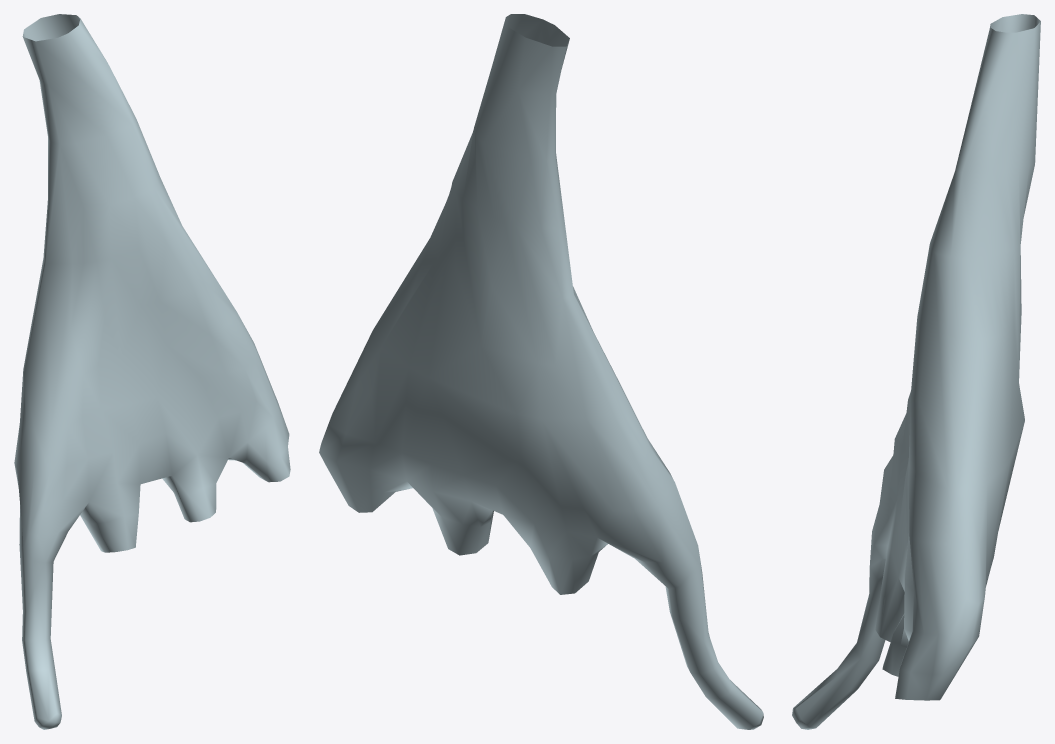
Rendered from musculos-common-flexor-tendon-sheath-l.glb.
The picture shows the model from 3 angles, left to right: view 1: azimuth 30°, elevation 25°; view 2: azimuth 150°, elevation 25°; view 3: azimuth 270°, elevation 25°; orthographic projection. The views are drawn at different scales.
Visible parts, largest first — view 1: Common flexor tendon sheath.l; view 2: Common flexor tendon sheath.l; view 3: Common flexor tendon sheath.l.
Boxes of the visible parts, x1=… form: Common flexor tendon sheath.l: x1=14, y1=14, x2=290, y2=729; Common flexor tendon sheath.l: x1=319, y1=14, x2=763, y2=729; Common flexor tendon sheath.l: x1=792, y1=14, x2=1040, y2=729.
Size of the model in its own units: 0.0622 by 0.1215 by 0.0359.
